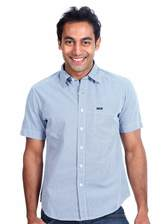clothoes: (21, 61, 148, 218)
